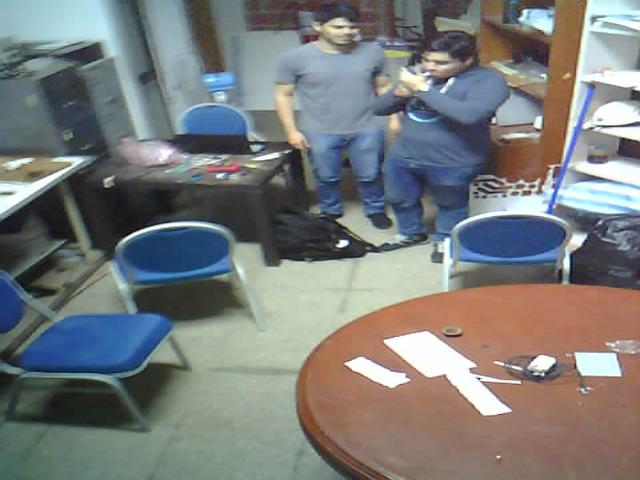person: (265, 1, 411, 241), (377, 23, 515, 266)
